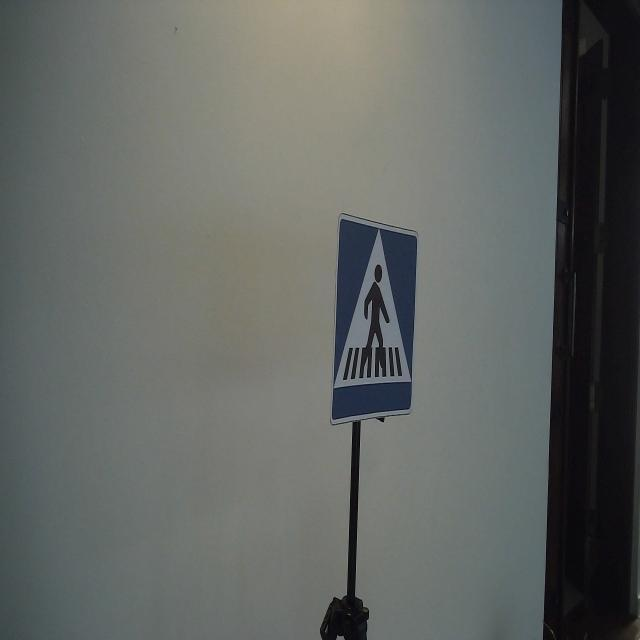crosswalk_sign: (328, 211, 421, 429)
